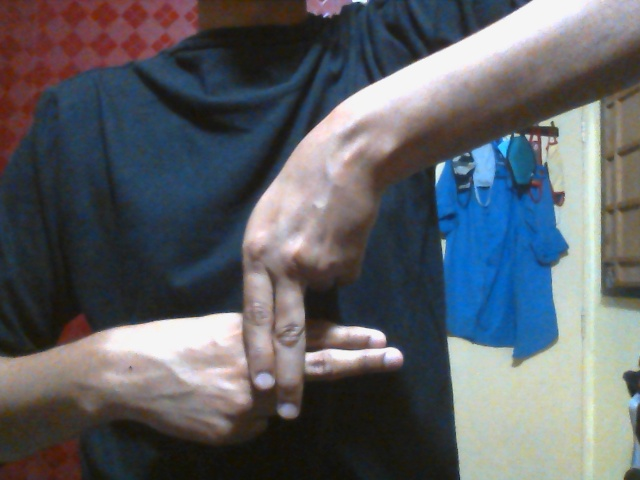F: (137, 144, 405, 451)
